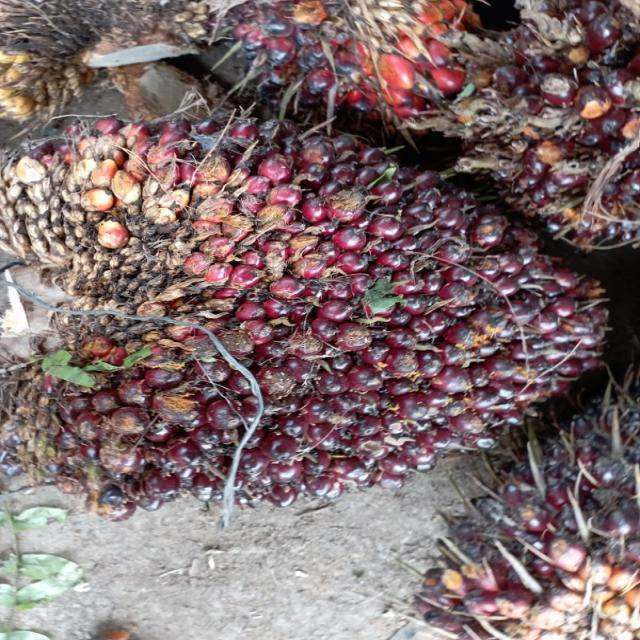fraksi 1: (0, 89, 614, 557)
